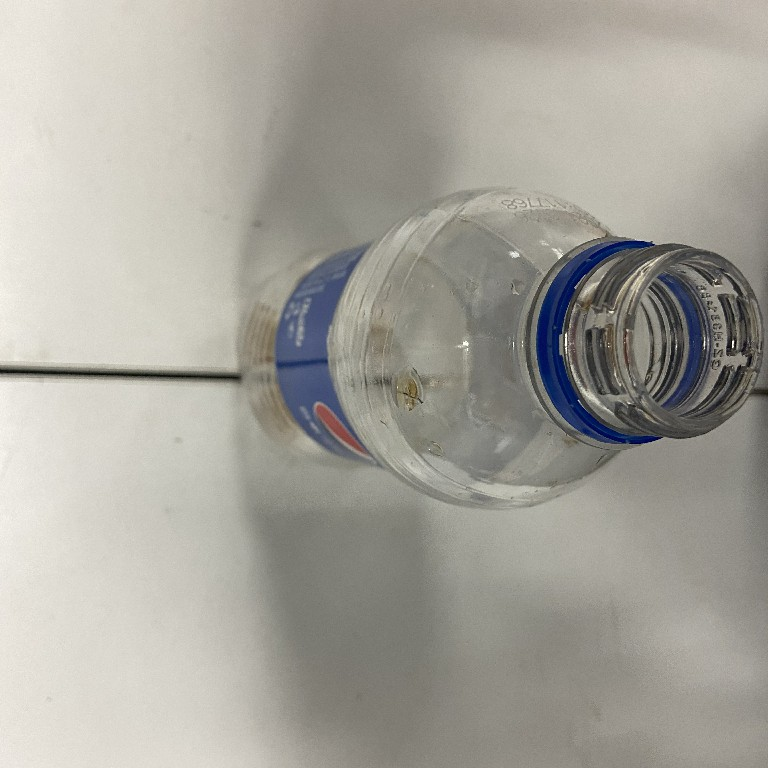bottle: (231, 178, 768, 517)
